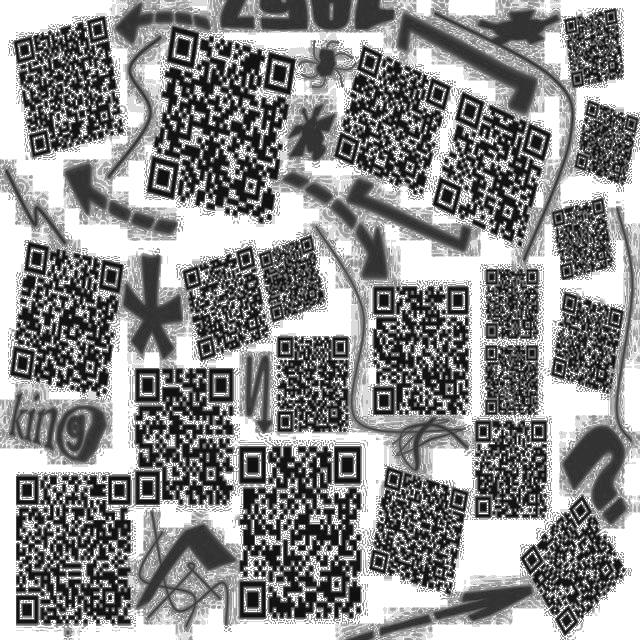qr_code: (147, 26, 295, 225), (240, 447, 360, 618), (433, 92, 551, 246), (10, 242, 123, 398), (334, 46, 450, 197), (16, 476, 130, 623), (14, 16, 123, 157), (521, 495, 627, 635), (136, 368, 233, 504), (370, 467, 469, 594), (374, 287, 468, 414), (183, 246, 270, 361), (551, 293, 623, 394), (476, 421, 546, 517), (278, 337, 348, 431), (259, 235, 325, 322), (574, 100, 638, 186), (552, 199, 613, 280), (564, 9, 624, 88), (487, 269, 538, 338), (486, 346, 537, 414)
